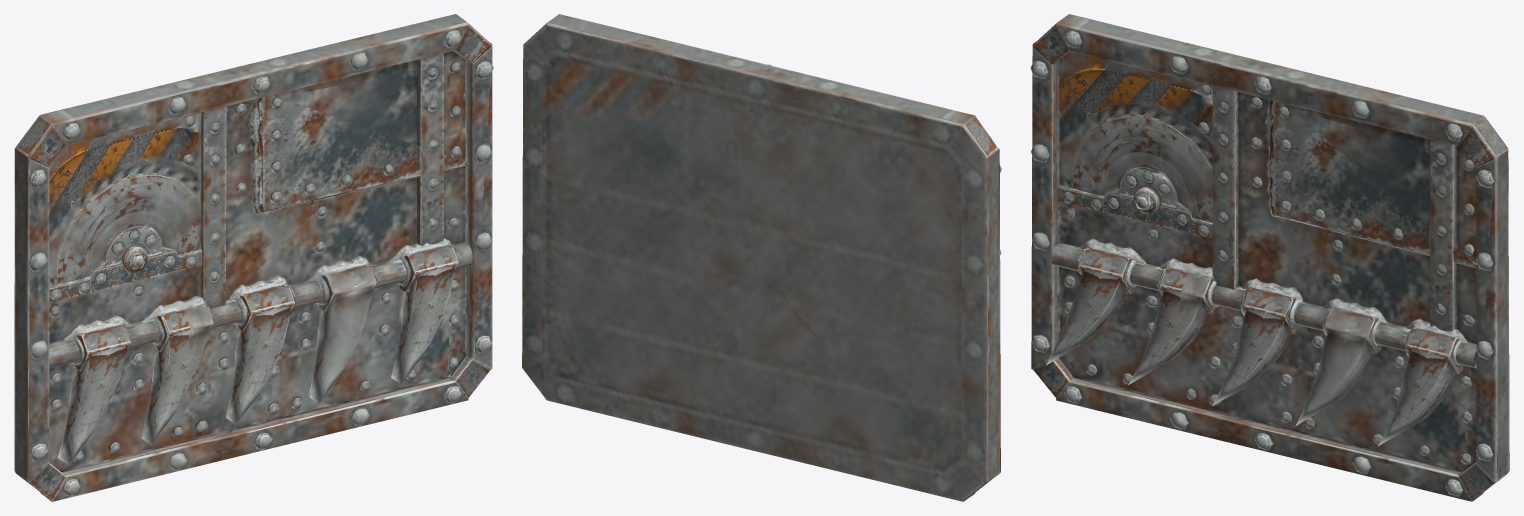
The model's file is train-armor-plate.glb.
3 views of the same model, side by side, from view 1: azimuth 30°, elevation 25°; view 2: azimuth 150°, elevation 25°; view 3: azimuth 330°, elevation 25° (orthographic).
Parts seen in each view (by area): view 1: train-armor-plate; view 2: train-armor-plate; view 3: train-armor-plate.
Boxes of the visible parts, left/top/right/bottom form: train-armor-plate: left=14, top=14, right=493, bottom=501; train-armor-plate: left=522, top=14, right=1001, bottom=501; train-armor-plate: left=1030, top=14, right=1509, bottom=501.
Bounding box in the file's own units: 1.2 × 0.9324 × 0.1239.
Materials: 1 (1 with a texture image).
